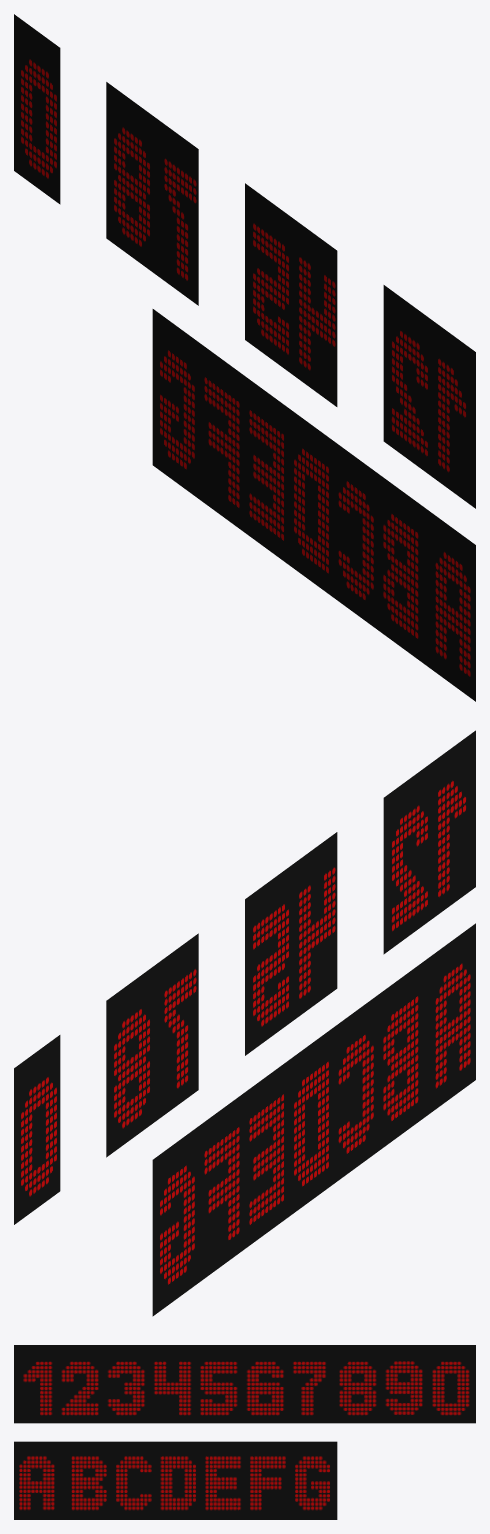
The model's file is LED screens.fbx.
3 renders of one model, top to bottom at view 1: azimuth 30°, elevation 25°; view 2: azimuth 150°, elevation 25°; view 3: azimuth 270°, elevation 25°, orthographic. The views are drawn at different scales.
Parts seen in each view (by area): view 1: Plane.004, Plane.007, Plane.008, Plane.014, Plane.003, Plane.005, Plane.010, Plane.011, Plane.017, Plane.019, Plane.009, Plane.013 (+2 smaller); view 2: Plane.010, Plane.003, Plane.005, Plane.008, Plane.016, Plane.017, Plane.006, Plane.007, Plane.009, Plane.011, Plane.013, Plane.004 (+2 smaller); view 3: Plane.005, Plane.012, Plane.017, Plane.003, Plane.004, Plane.006, Plane.007, Plane.008, Plane.009, Plane.010, Plane.011, Plane.013 (+5 smaller).
Boxes of the visible parts, box(x1,y1,x2,y2) form: Plane.004: box(383, 478, 429, 667); Plane.007: box(245, 376, 291, 566); Plane.008: box(198, 342, 244, 532); Plane.014: box(245, 183, 291, 373); Plane.003: box(429, 511, 475, 701); Plane.005: box(337, 444, 383, 633); Plane.010: box(429, 318, 475, 508); Plane.011: box(383, 285, 429, 474); Plane.017: box(106, 82, 152, 271); Plane.019: box(14, 14, 60, 204); Plane.009: box(152, 309, 198, 498); Plane.013: box(291, 217, 337, 406); Plane.010: box(429, 730, 475, 920); Plane.003: box(429, 923, 475, 1113); Plane.005: box(337, 991, 383, 1180); Plane.008: box(198, 1092, 244, 1282); Plane.016: box(152, 933, 198, 1123); Plane.017: box(106, 967, 152, 1157); Plane.006: box(291, 1025, 337, 1214); Plane.007: box(245, 1059, 291, 1248); Plane.009: box(152, 1126, 198, 1316); Plane.011: box(383, 764, 429, 954); Plane.013: box(291, 832, 337, 1021); Plane.004: box(383, 957, 429, 1146); Plane.005: box(106, 1441, 152, 1519); Plane.012: box(106, 1345, 152, 1423); Plane.017: box(337, 1345, 383, 1423); Plane.003: box(14, 1441, 60, 1519); Plane.004: box(60, 1441, 106, 1519); Plane.006: box(152, 1441, 198, 1519); Plane.007: box(198, 1441, 244, 1519); Plane.008: box(245, 1441, 291, 1519); Plane.009: box(291, 1441, 337, 1519); Plane.010: box(14, 1345, 60, 1423); Plane.011: box(60, 1345, 106, 1423); Plane.013: box(152, 1345, 198, 1423).
Bounding box in the file's own units: 0.000411 × 1002 × 2400.
1 material, 1 textured.
